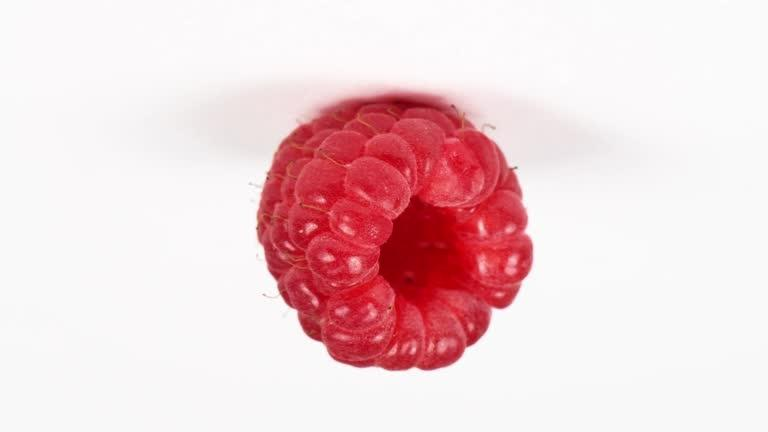peas: (255, 92, 534, 371)
